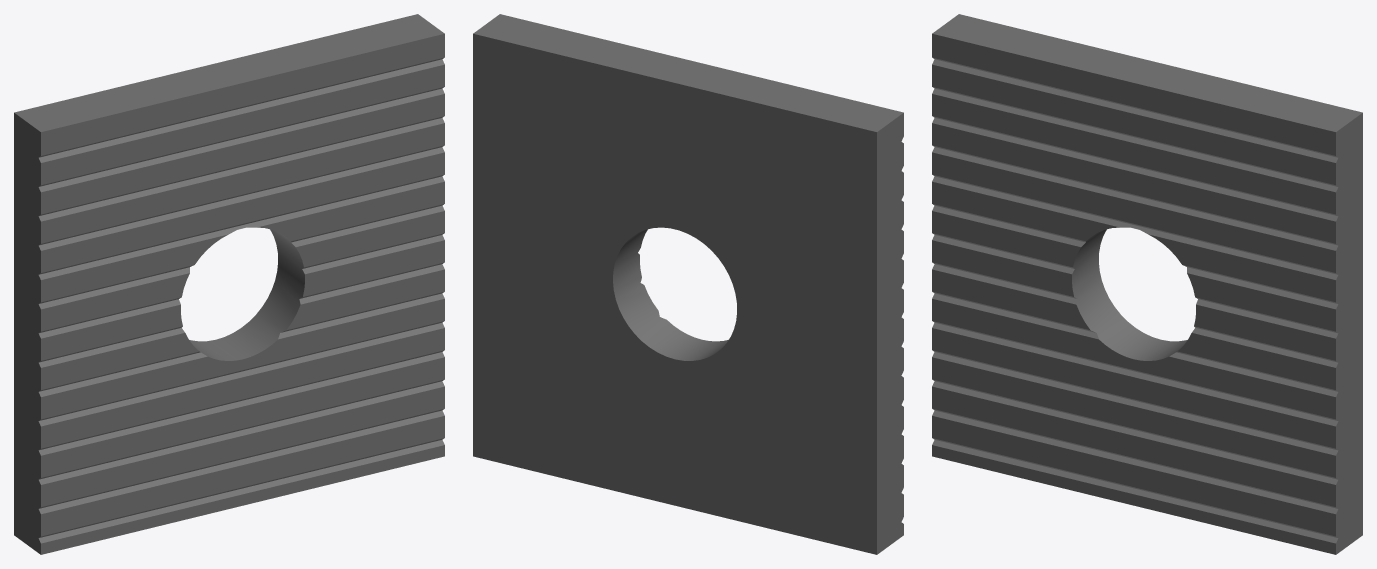
File: tirtikli_pul.glb
3 renders of one model, left to right at view 1: azimuth 30°, elevation 25°; view 2: azimuth 150°, elevation 25°; view 3: azimuth 330°, elevation 25°, orthographic.
Parts seen in each view (by area): view 1: tÄ±rnaklÄ± pul.001; view 2: tÄ±rnaklÄ± pul.001; view 3: tÄ±rnaklÄ± pul.001.
Boxes of the visible parts, bbox=[...] form: tÄ±rnaklÄ± pul.001: bbox=[14, 14, 444, 554]; tÄ±rnaklÄ± pul.001: bbox=[473, 14, 903, 554]; tÄ±rnaklÄ± pul.001: bbox=[932, 14, 1362, 554].
Bounding box in the file's own units: 0.026 × 0.026 × 0.003.
Materials: 1 (1 with a texture image).
